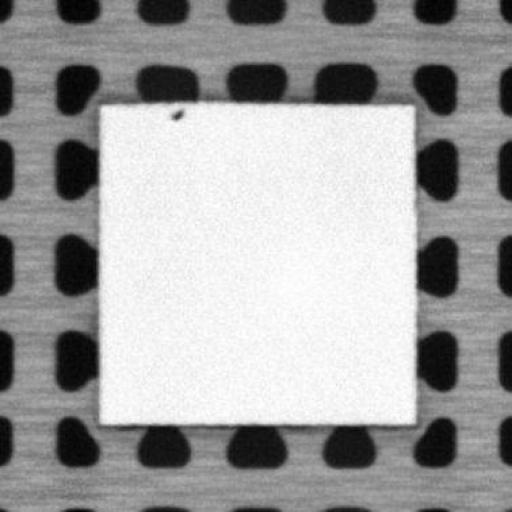DIE_INK: (171, 106, 183, 120)
